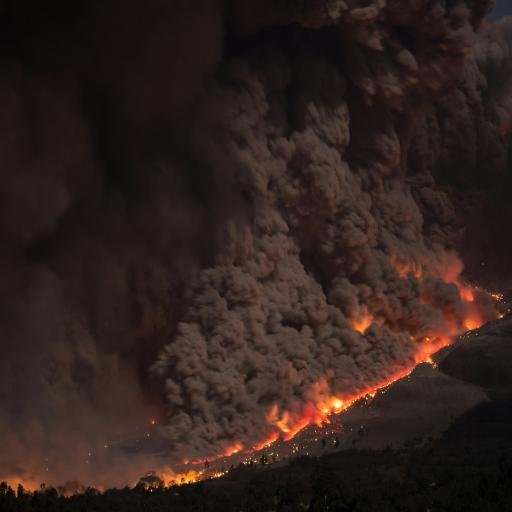smoke: (140, 46, 448, 335)
wildfire: (1, 44, 512, 512)
